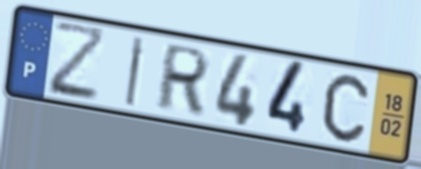4: (264, 57, 313, 141), (213, 51, 257, 129)
C: (320, 72, 371, 145)
I: (123, 33, 148, 109)
R: (152, 41, 213, 117)
Z: (47, 19, 108, 105)
